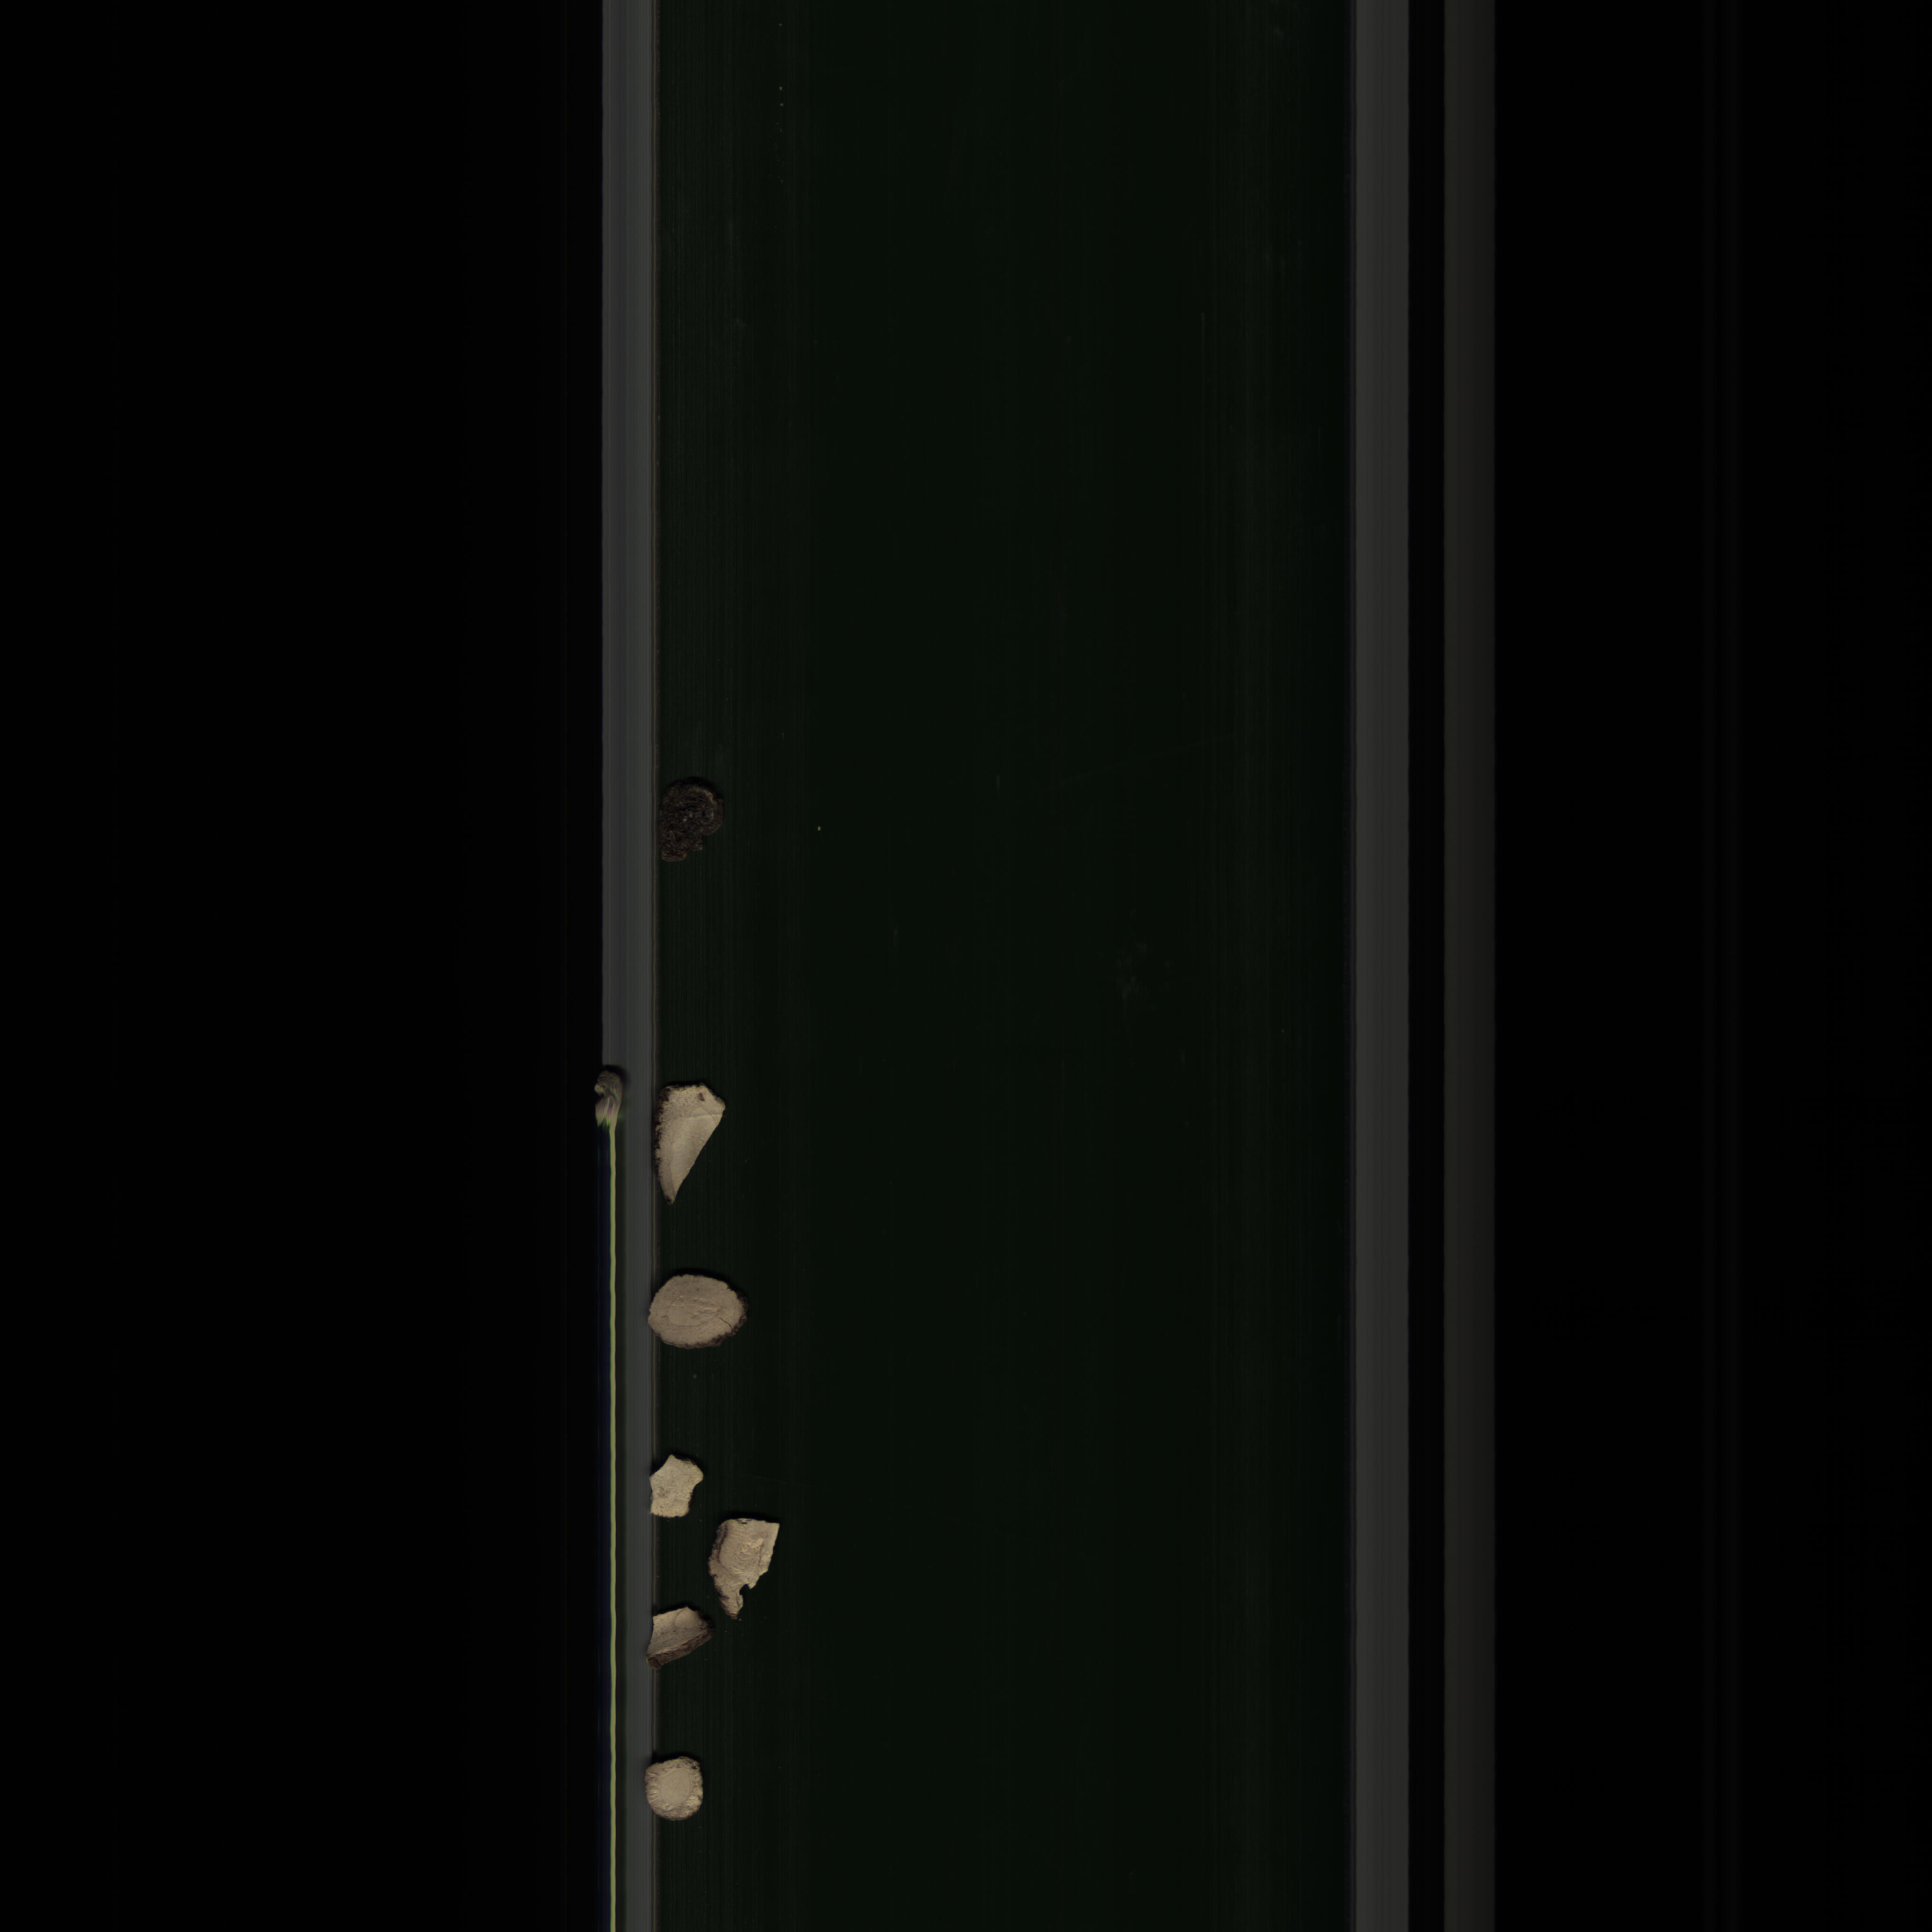bark: (658, 777, 725, 872)
debris: (649, 1083, 732, 1208), (697, 1516, 791, 1621), (637, 1601, 722, 1675), (644, 1445, 706, 1527)
